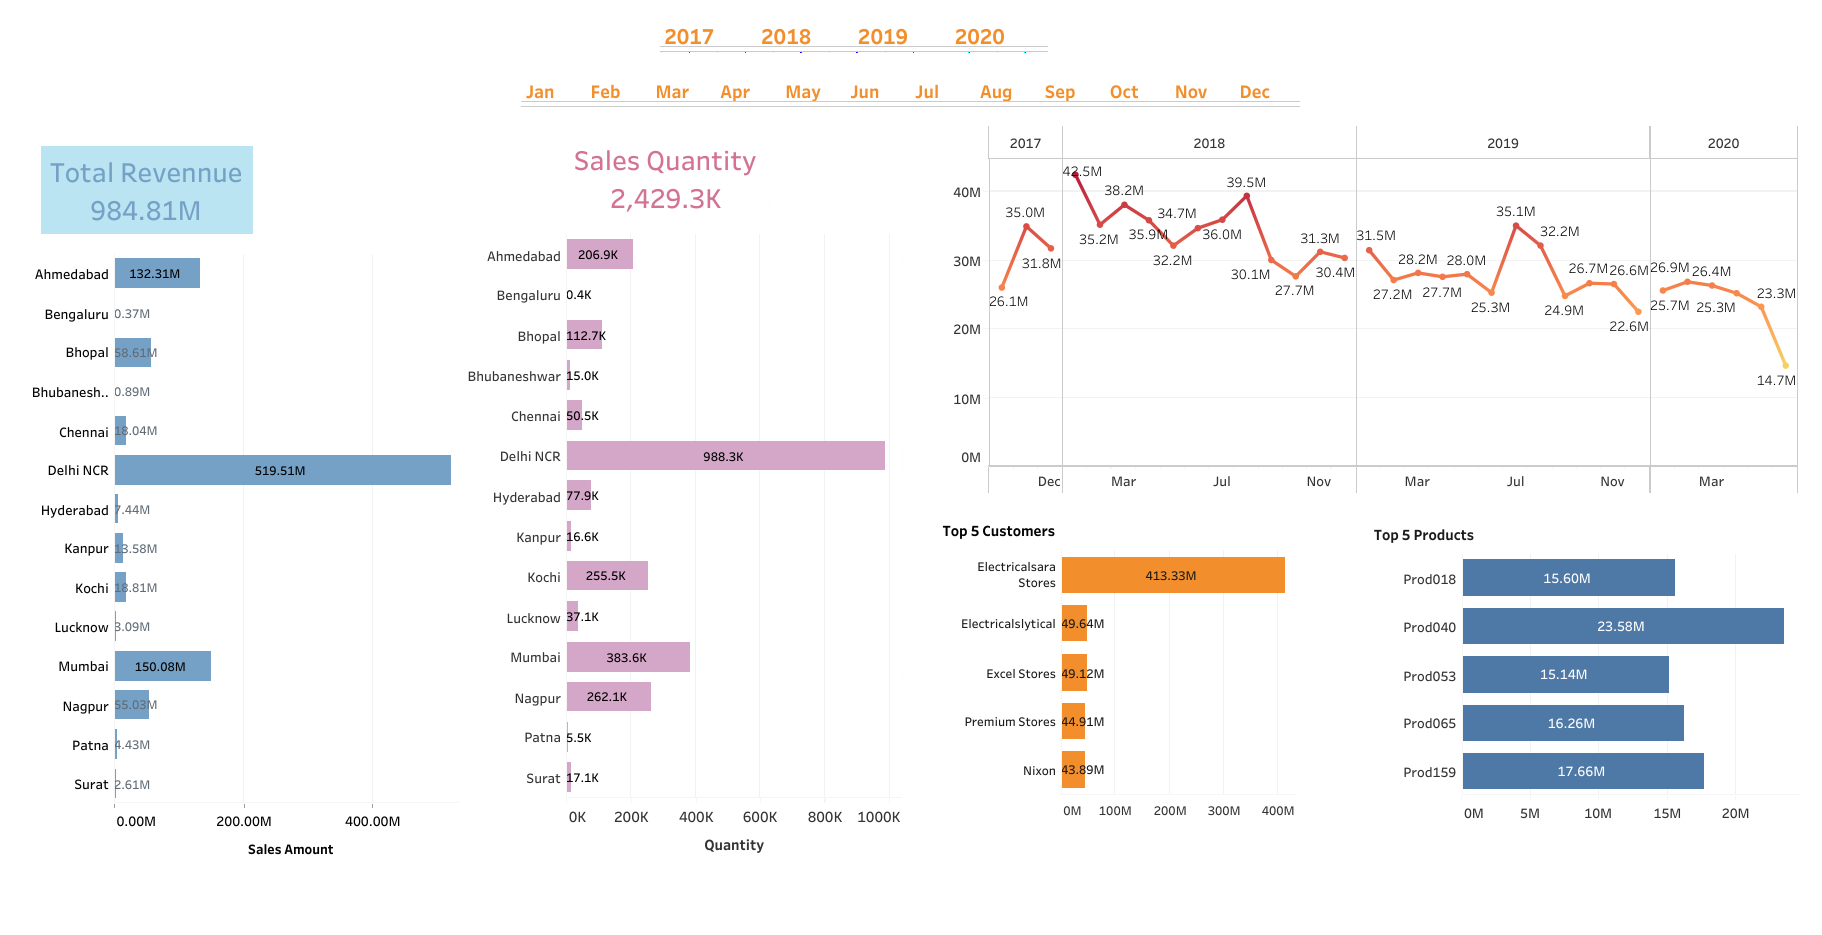

The page's visual inventory and layout, read from the dashboard file:
{"tool":"tableau","page":{"name":"Revenue Analysis","canvas":[1657,851],"ordinal":1},"visuals":[{"type":"worksheet","title":"Year","mark":"Automatic","cols":["cy_date"],"box":[600,22,507,41]},{"type":"worksheet","title":"Month","mark":"Automatic","cols":["month_name"],"box":[474,72,733,46]},{"type":"worksheet","title":"Revenue by Year","mark":"Automatic","rows":["Calculation_677510293067964416"],"cols":["cy_date","cy_date"],"box":[866,115,769,334]},{"type":"worksheet","title":"Quantity","mark":"Automatic","box":[513,123,186,79]},{"type":"worksheet","title":"Revenue","mark":"Automatic","box":[37,133,193,80]},{"type":"worksheet","title":"Sales Quanity by Market","mark":"Automatic","rows":["markets_name"],"cols":["sales_qty"],"box":[417,213,403,571]},{"type":"worksheet","title":"Revenue by Markets","mark":"Automatic","rows":["markets_name"],"cols":["Calculation_677510293067964416"],"box":[20,231,405,556]},{"type":"worksheet","title":"Top 5 Customers","mark":"Automatic","rows":["custmer_name"],"cols":["Calculation_677510293067964416"],"box":[853,466,326,286]},{"type":"worksheet","title":"Top 5 Products","mark":"Automatic","rows":["product_code (Product)"],"cols":["Calculation_677510293067964416"],"box":[1245,470,392,283]}]}

Visuals, with their boxes in screenshot pixels (x1, y1, x2, y2), scaled from the page's 1657x851 canvas onto the 1822x935 screenshot:
"Year" worksheet: pyautogui.locateOnScreen(660, 24, 1217, 69)
"Month" worksheet: pyautogui.locateOnScreen(521, 79, 1327, 130)
"Revenue by Year" worksheet: pyautogui.locateOnScreen(952, 126, 1798, 493)
"Quantity" worksheet: pyautogui.locateOnScreen(564, 135, 769, 222)
"Revenue" worksheet: pyautogui.locateOnScreen(41, 146, 253, 234)
"Sales Quanity by Market" worksheet: pyautogui.locateOnScreen(459, 234, 902, 861)
"Revenue by Markets" worksheet: pyautogui.locateOnScreen(22, 254, 467, 865)
"Top 5 Customers" worksheet: pyautogui.locateOnScreen(938, 512, 1296, 826)
"Top 5 Products" worksheet: pyautogui.locateOnScreen(1369, 516, 1800, 827)
